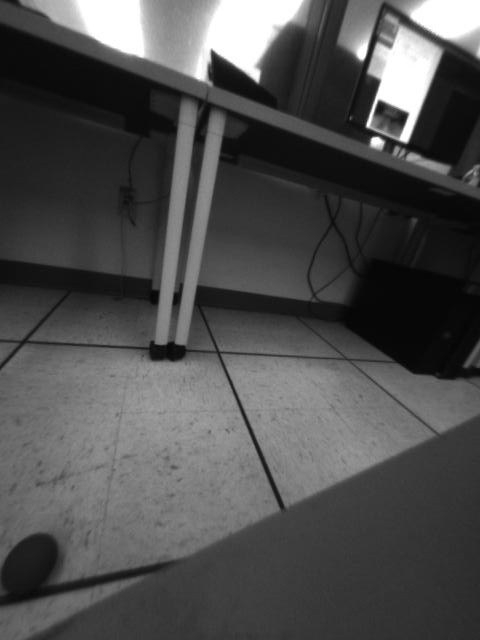dogtoy: (1, 523, 69, 606)
